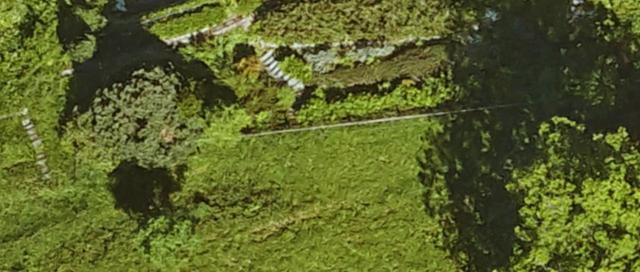tree: (508, 123, 639, 272), (72, 65, 206, 171)
